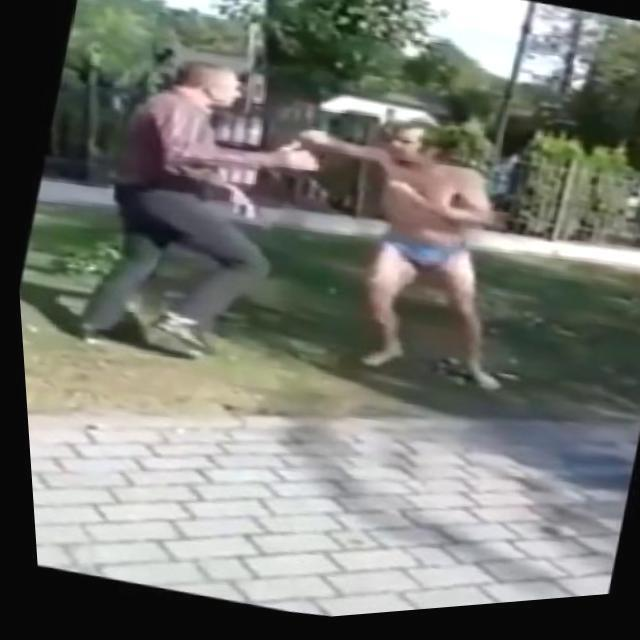fight: (54, 22, 544, 430)
